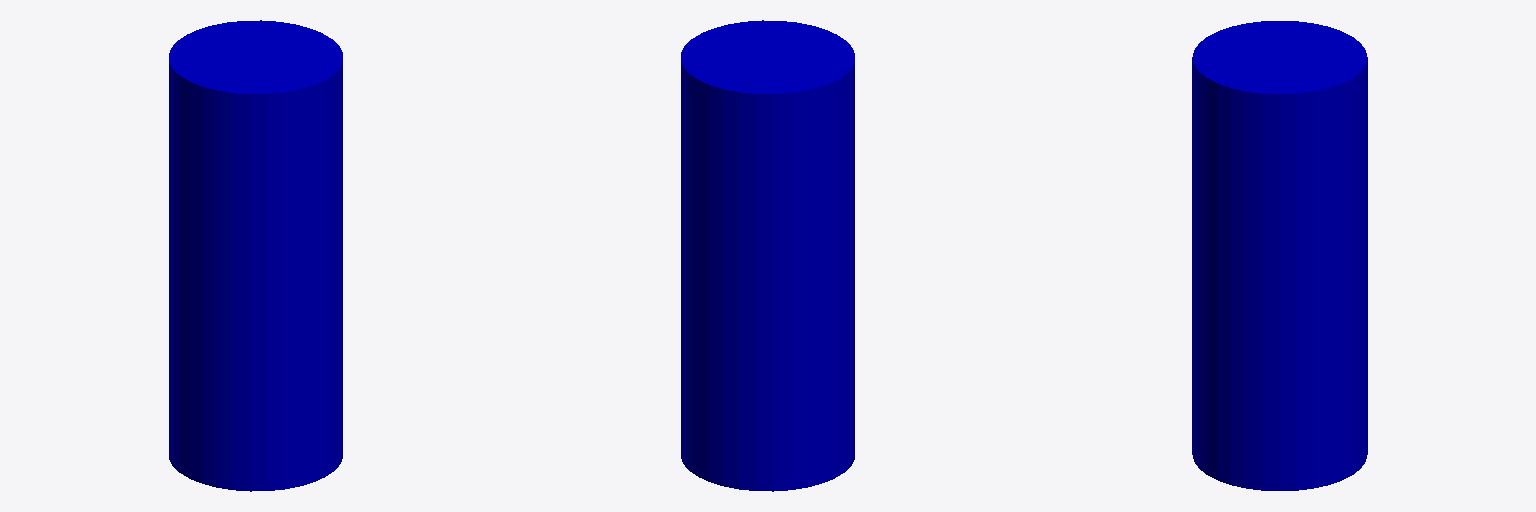
URDF robot description (object):
<?xml version="1.0" ?>
<robot name="object">
    <link name="object_link">
        <contact>
          <lateral_friction value="1.0"/>
          <rolling_friction value="1.0"/>
          <stiffness value="10000"/>
          <damping value="100"/>
        </contact>
        <inertial>
          <origin rpy="0 0 0" xyz="0 0 0"/>
           <mass value="2"/>
           <inertia ixx="1" ixy="0" ixz="0" iyy="1" iyz="0" izz="1"/>
        </inertial>
        <visual>
          <geometry>
            <cylinder length="0.1" radius="0.02"/>
          </geometry>
          <material name="blue">
            <color rgba="0 0 .8 1"/>
          </material>
        </visual>
        <collision>
          <geometry>
            <cylinder length="0.1" radius="0.02"/>
          </geometry>
        </collision>
    </link>
</robot>

--- Render facts (derived) ---
3 views of the same robot in one strip: view 1: azimuth 30°, elevation 25°; view 2: azimuth 150°, elevation 25°; view 3: azimuth 270°, elevation 25° (orthographic).
Robot: object — 1 links, 0 joints (none); root link object_link; default pose: every joint at zero.
Links seen in each view (by area): view 1: object_link; view 2: object_link; view 3: object_link.
Link boxes in pixels (x1,y1,x2,y2): object_link: (169, 20, 342, 491); object_link: (681, 20, 854, 491); object_link: (1192, 21, 1367, 490).
Bounding box of the posed robot: 0.04 × 0.04 × 0.1 m (x, y, z).
Geometry: primitives only (box / cylinder / sphere), no mesh files.
